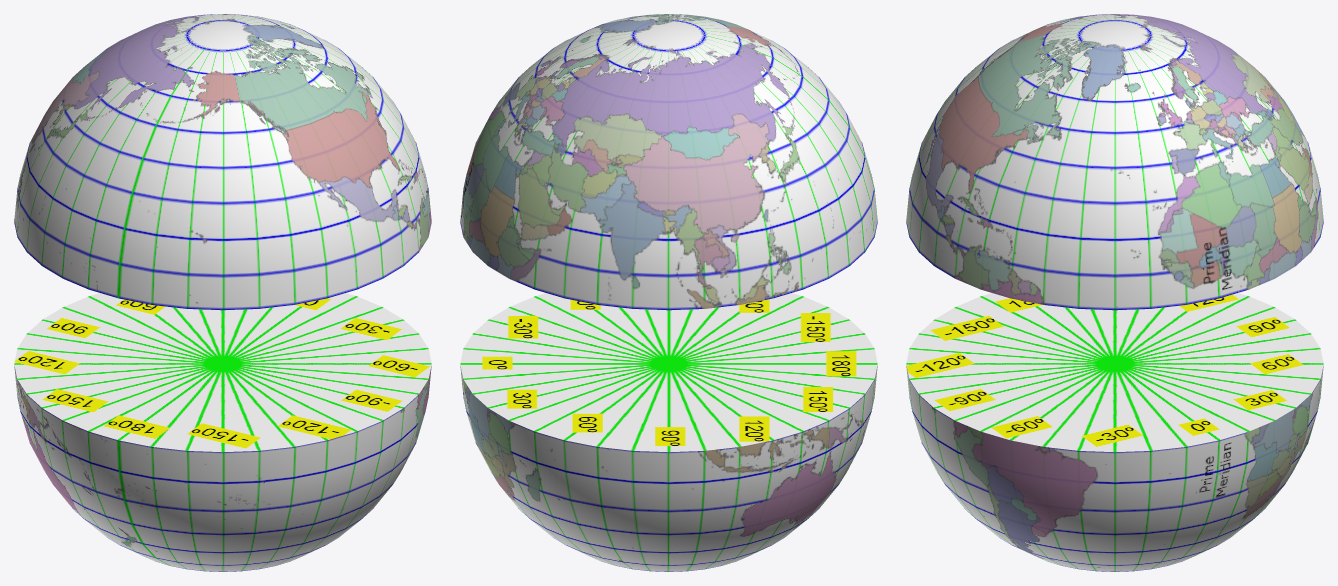
The model's file is Lat_Long_Sphere_2.FBX.
3 renders of one model, left to right at view 1: azimuth 30°, elevation 25°; view 2: azimuth 150°, elevation 25°; view 3: azimuth 270°, elevation 25°, orthographic.
Visible parts, largest first — view 1: polySurface1; view 2: polySurface1; view 3: polySurface1.
Part boxes in pixels (<box>): polySurface1: <box>14,14,431,571</box>; polySurface1: <box>460,14,877,571</box>; polySurface1: <box>906,14,1323,571</box>.
Size of the model in its own units: 16 by 22 by 16.
Materials: 1 (1 with a texture image).
